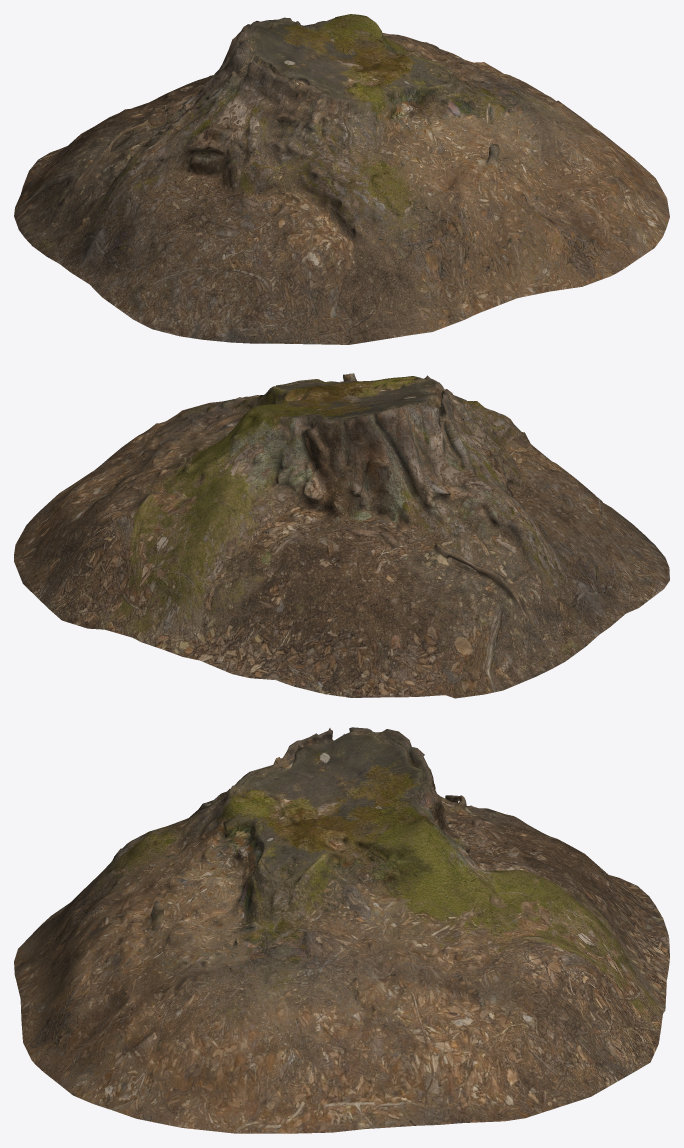
The model's file is tree_stump_02.glb.
The picture shows the model from 3 angles, top to bottom: view 1: azimuth 30°, elevation 25°; view 2: azimuth 150°, elevation 25°; view 3: azimuth 270°, elevation 25°; orthographic projection. The views are drawn at different scales.
Parts seen in each view (by area): view 1: tree_stump_02; view 2: tree_stump_02; view 3: tree_stump_02.
Boxes of the visible parts, bbox=[...] form: tree_stump_02: bbox=[14, 14, 669, 344]; tree_stump_02: bbox=[14, 373, 669, 698]; tree_stump_02: bbox=[14, 727, 669, 1133].
Bounding box in the file's own units: 1.52 × 0.5196 × 1.39.
Materials: 1 (1 with a texture image).
